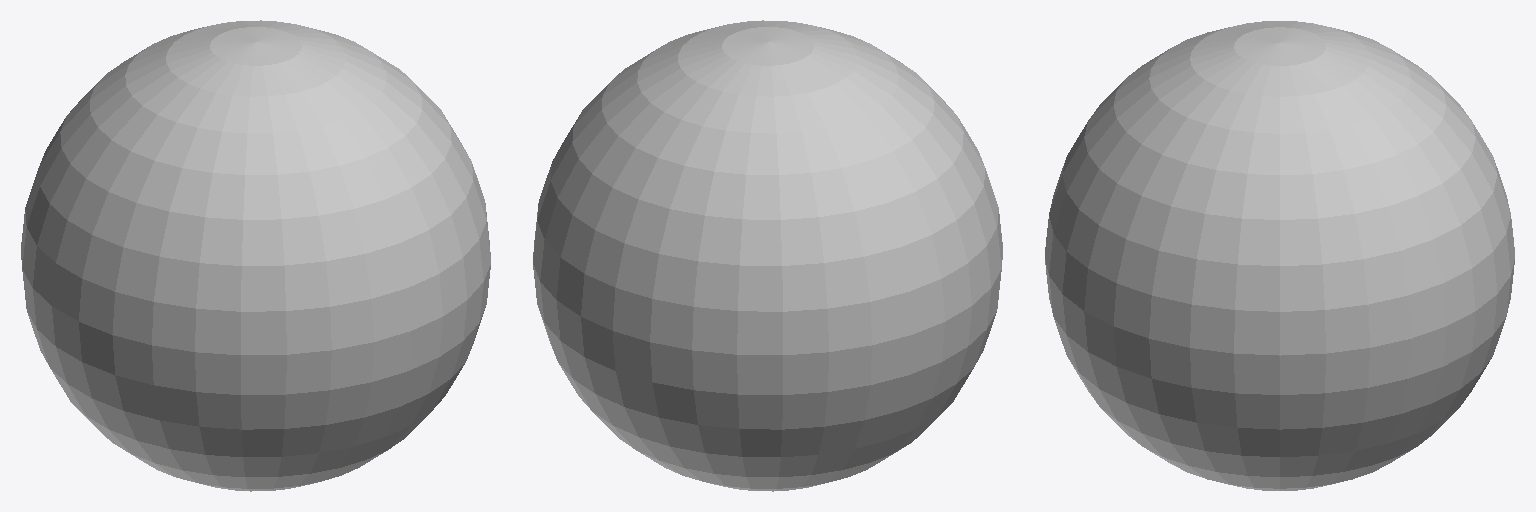
The robot description file, URDF, robot "robot_name":
<?xml version="1.0"?>
<robot name="robot_name">
    <link name="ball">
        <inertial>
            <origin xyz="0.0 0.0 0.0" rpy="0.0 0.0 0.0"/>
            <mass value="0.15"/>
            <inertia ixx="0.1" ixy="0.0" ixz="0.0" iyy="0.1" iyz="0.0" izz="0.1"/>
        </inertial>
        <visual>
            <origin xyz="0.0 0.0 0.0" rpy="0.0 0.0 0.0"/>
            <geometry>
                <sphere radius="0.04"/>
            </geometry>
            <material name="grey_ball">
                <color rgba="0.8 0.8 0.8 1.0"/>
            </material>
        </visual>
        <collision>
            <origin xyz="0.0 0.0 0.0" rpy="0.0 0.0 0.0"/>
            <geometry>
                <sphere radius="0.04"/>
            </geometry>
        </collision>
        <contact>
            <lateral_friction value="10000.0"/>
            <rolling_friction value="0.0"/>
        </contact>
    </link>   
</robot>

--- What the picture shows (computed from the rendered views, not written in the file) ---
3 views of the same robot in one strip: view 1: azimuth 30°, elevation 25°; view 2: azimuth 150°, elevation 25°; view 3: azimuth 270°, elevation 25° (orthographic).
Robot: robot_name — 1 links, 0 joints (none); root link ball; default pose: every joint at zero.
Links seen in each view (by area): view 1: ball; view 2: ball; view 3: ball.
Link boxes in pixels (x1,y1,x2,y2): ball: (21, 20, 490, 491); ball: (533, 20, 1002, 491); ball: (1045, 21, 1514, 490).
Size in the robot's own frame: 0.08 by 0.08 by 0.08 metres.
Geometry: primitives only (box / cylinder / sphere), no mesh files.